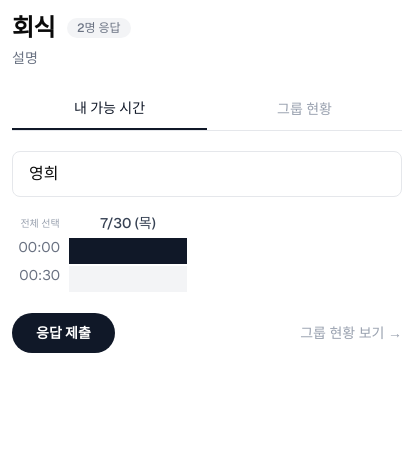
PollView (unsaved changes, FR-17) › keeps unsaved edits when switching tabs
Press the mouse on the checkbox named "slot-s2" at (128, 279), box [68, 265, 188, 293]
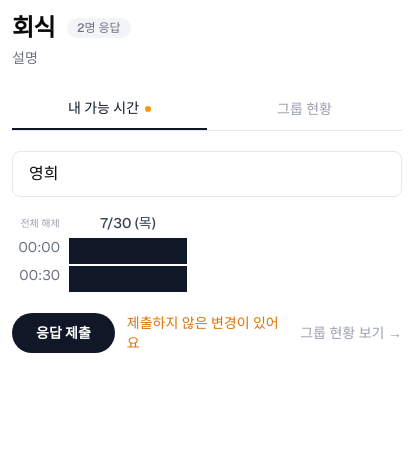
Click the button "그룹 현황" at (304, 109), box [207, 88, 402, 130]
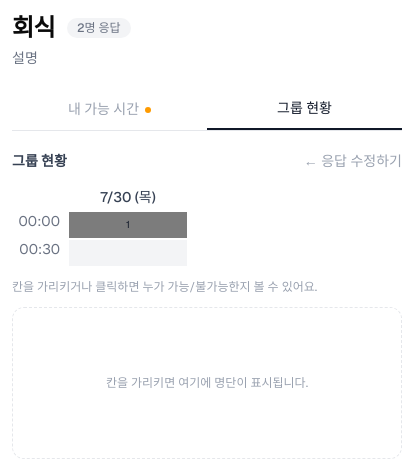
Click the button "내 가능 시간" at (110, 109), box [12, 88, 207, 130]
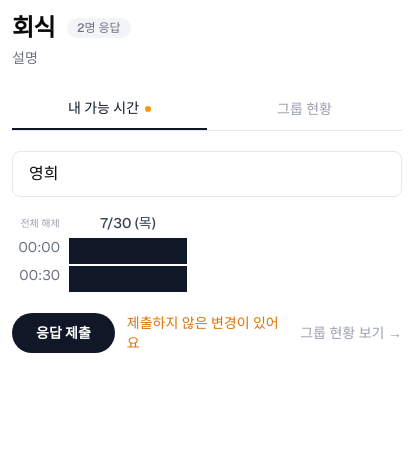
Now the text "제출하지 않은 변경이 있어요" is shown, box [127, 313, 288, 353]
